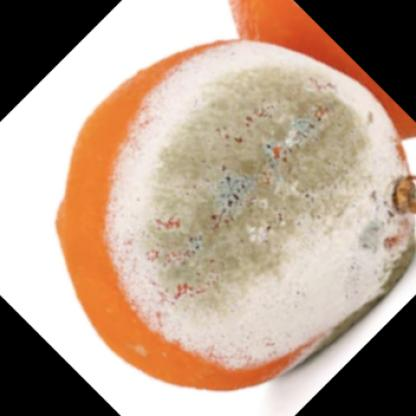rotten: (60, 45, 416, 391)
